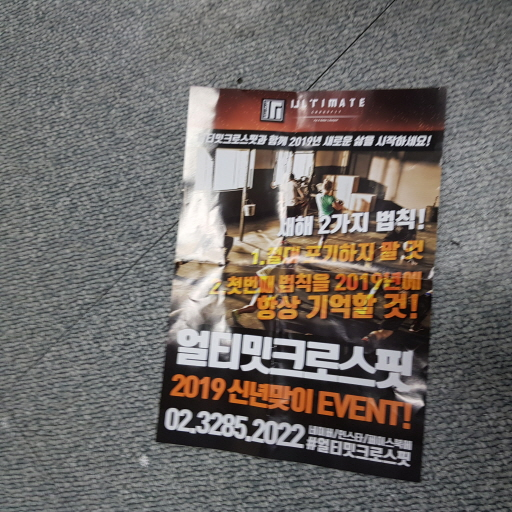Paper_2: (157, 69, 445, 500)
